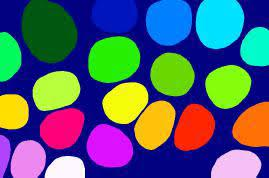cell: (89, 35, 141, 81), (196, 0, 244, 49), (145, 0, 193, 47), (206, 66, 252, 110), (135, 101, 176, 149), (102, 82, 148, 124), (88, 124, 133, 166), (175, 103, 215, 150), (151, 53, 193, 97), (34, 72, 81, 110), (41, 110, 84, 149), (233, 102, 269, 147), (209, 149, 261, 178), (93, 0, 137, 31), (10, 141, 45, 177), (239, 26, 269, 66), (0, 32, 22, 83), (45, 156, 86, 178)
